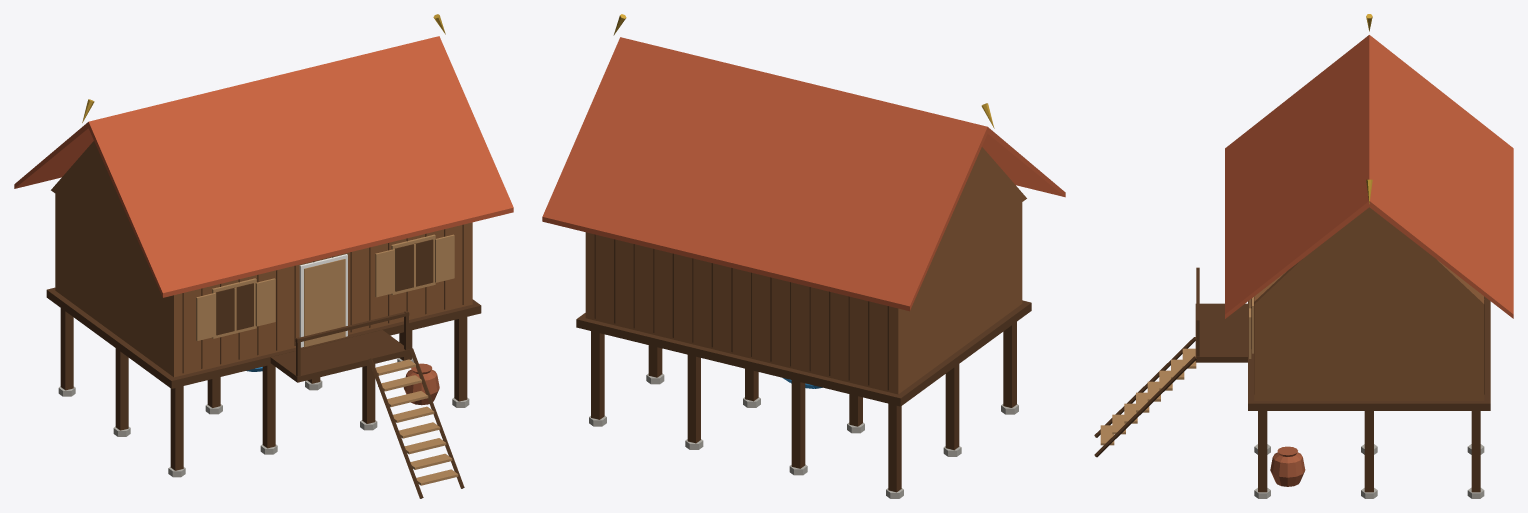
File: BLD_StiltHouse.fbx
3 views of the same model, side by side, from view 1: azimuth 30°, elevation 25°; view 2: azimuth 150°, elevation 25°; view 3: azimuth 270°, elevation 25° (orthographic). The views are drawn at different scales.
Visible parts, largest first — view 1: BLD_StiltHouse; view 2: BLD_StiltHouse; view 3: BLD_StiltHouse.
Boxes of the visible parts, bbox=[...] form: BLD_StiltHouse: bbox=[14, 14, 513, 498]; BLD_StiltHouse: bbox=[542, 14, 1065, 498]; BLD_StiltHouse: bbox=[1094, 14, 1513, 498].
Size of the model in its own units: 9.75 by 8.79 by 10.03.
